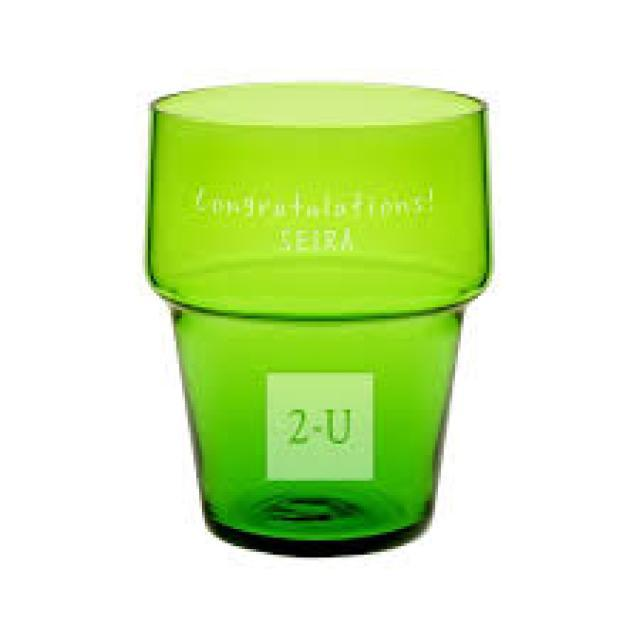Glass: (146, 80, 492, 560)
